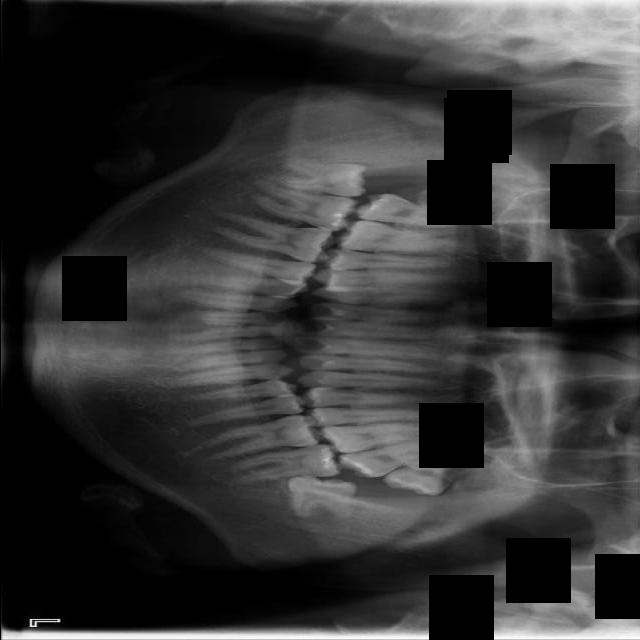52: (304, 184, 359, 241), (292, 439, 343, 484)
73: (50, 603, 64, 613)
BioHorizons Implant: (334, 437, 442, 484)
BioLife Implant: (379, 440, 486, 509)
Biomet 3i Implant: (283, 473, 357, 521)
Blue Sky Bio Implant: (230, 443, 341, 485)
Caries: (354, 190, 463, 231)
Implant: (249, 181, 357, 236)
Keystone Dental Implant: (267, 155, 368, 199)
